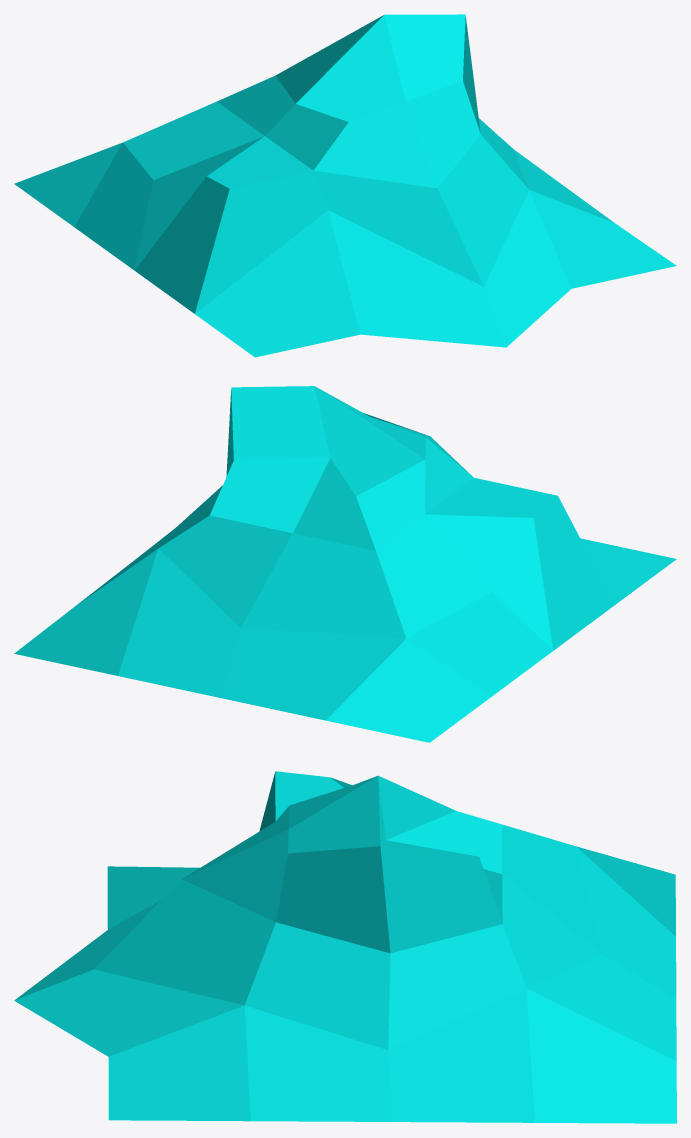
Rendered from Rock_Rock_01.fbx.
The picture shows the model from 3 angles, top to bottom: view 1: azimuth 30°, elevation 25°; view 2: azimuth 150°, elevation 25°; view 3: azimuth 270°, elevation 25°; orthographic projection. The views are drawn at different scales.
Parts seen in each view (by area): view 1: Rock_01; view 2: Rock_01; view 3: Rock_01.
Boxes of the visible parts, box(x1,y1,x2,y2) form: Rock_01: box(14, 14, 676, 357); Rock_01: box(14, 386, 676, 742); Rock_01: box(14, 771, 676, 1123).
Bounding box in the file's own units: 549 × 267 × 640.
